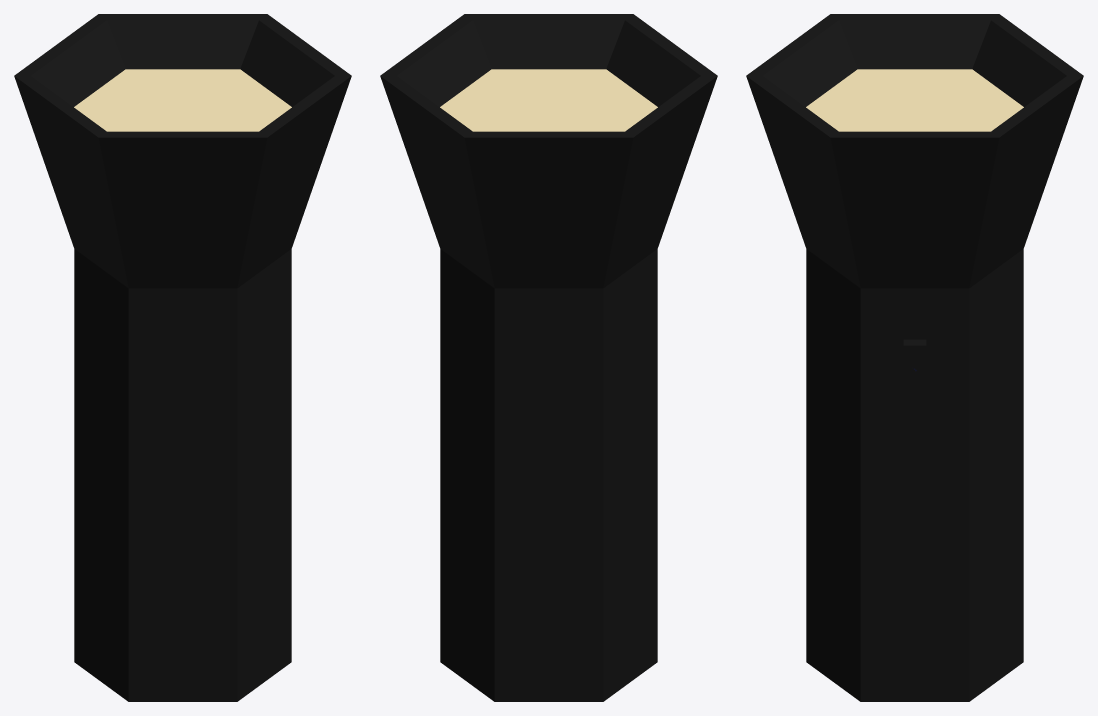
The model's file is lanterna.fbx.
3 views of the same model, side by side, from view 1: azimuth 30°, elevation 25°; view 2: azimuth 150°, elevation 25°; view 3: azimuth 270°, elevation 25° (orthographic).
Visible parts, largest first — view 1: Cilindro; view 2: Cilindro; view 3: Cilindro.
Boxes of the visible parts, x1,y1,x2,y2 form: Cilindro: [14, 14, 351, 701]; Cilindro: [380, 14, 717, 701]; Cilindro: [746, 14, 1083, 701].
Size of the model in its own units: 25.01 by 56.79 by 28.88.
